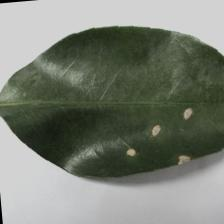canker: (108, 102, 202, 168)
